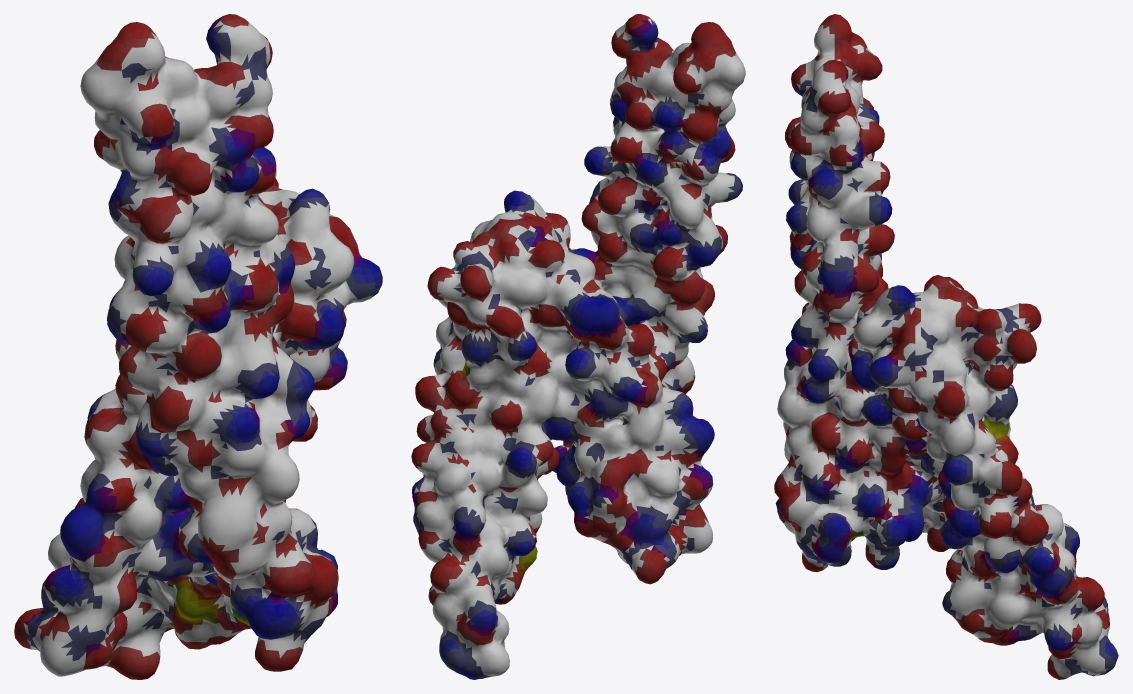
Rendered from shroom2-rock1-surf.obj.
3 views of the same model, side by side, from view 1: azimuth 30°, elevation 25°; view 2: azimuth 150°, elevation 25°; view 3: azimuth 270°, elevation 25° (orthographic). The views are drawn at different scales.
Bounding box in the file's own units: 52.04 × 116 × 59.87.
